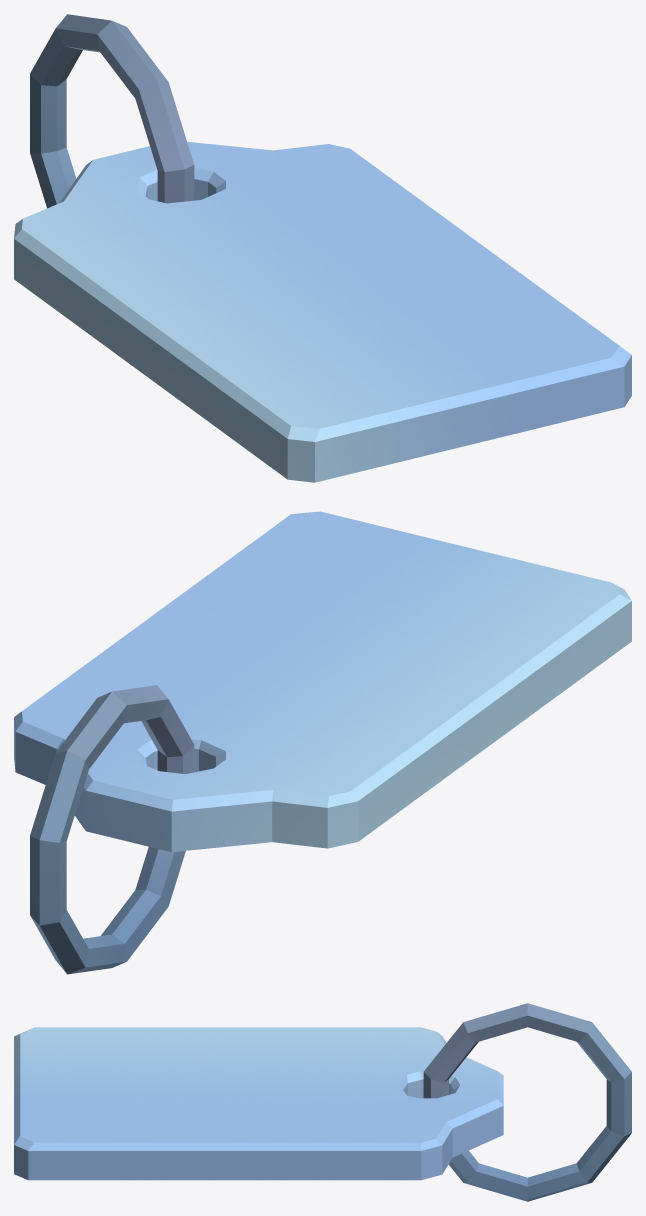
The model's file is label.fbx.
3 views of the same model, one above another, from view 1: azimuth 30°, elevation 25°; view 2: azimuth 150°, elevation 25°; view 3: azimuth 270°, elevation 25° (orthographic). The views are drawn at different scales.
Parts seen in each view (by area): view 1: label, ring; view 2: label, ring; view 3: label, ring.
Boxes of the visible parts, <box> form: label: <box>14,141,631,482</box>; ring: <box>30,14,194,208</box>; label: <box>14,511,631,852</box>; ring: <box>30,685,194,974</box>; label: <box>14,1027,503,1180</box>; ring: <box>423,1003,631,1201</box>.
Bounding box in the file's own units: 32.61 × 25.04 × 70.6.
